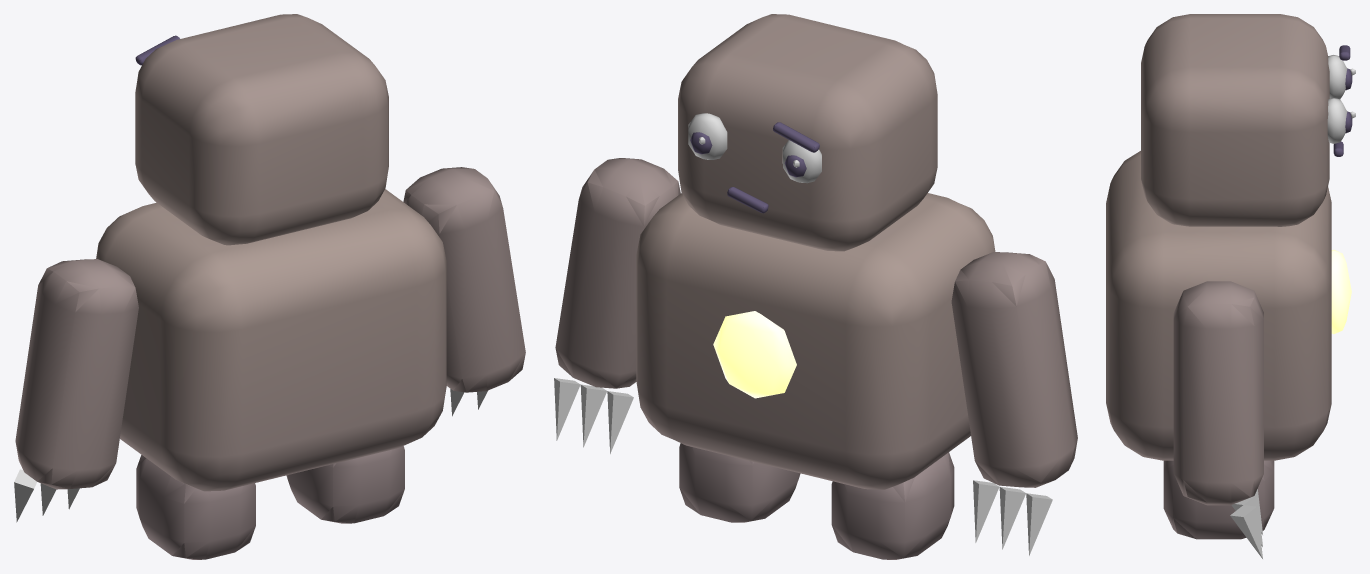
File: art_r_mole.glb
3 renders of one model, left to right at view 1: azimuth 30°, elevation 25°; view 2: azimuth 150°, elevation 25°; view 3: azimuth 270°, elevation 25°, orthographic. The views are drawn at different scales.
Visible parts, largest first — view 1: Body, Limb, Head; view 2: Body, Limb, Head, Glow_FFB347, Eye; view 3: Body, Head, Limb, Eye, Glow_FFB347.
Boxes of the visible parts, x1,y1,x2,y2 form: Body: (96, 189, 446, 491); Limb: (14, 167, 525, 559); Head: (135, 14, 388, 245); Body: (636, 193, 995, 489); Limb: (554, 158, 1077, 559); Head: (678, 14, 937, 251); Glow_FFB347: (713, 311, 796, 398); Eye: (688, 113, 821, 183); Body: (1106, 151, 1331, 460); Head: (1141, 14, 1329, 226); Limb: (1163, 281, 1274, 558); Eye: (1327, 45, 1355, 143); Glow_FFB347: (1331, 249, 1351, 334).
Bounding box in the file's own units: 2.64 × 2.44 × 1.22.
